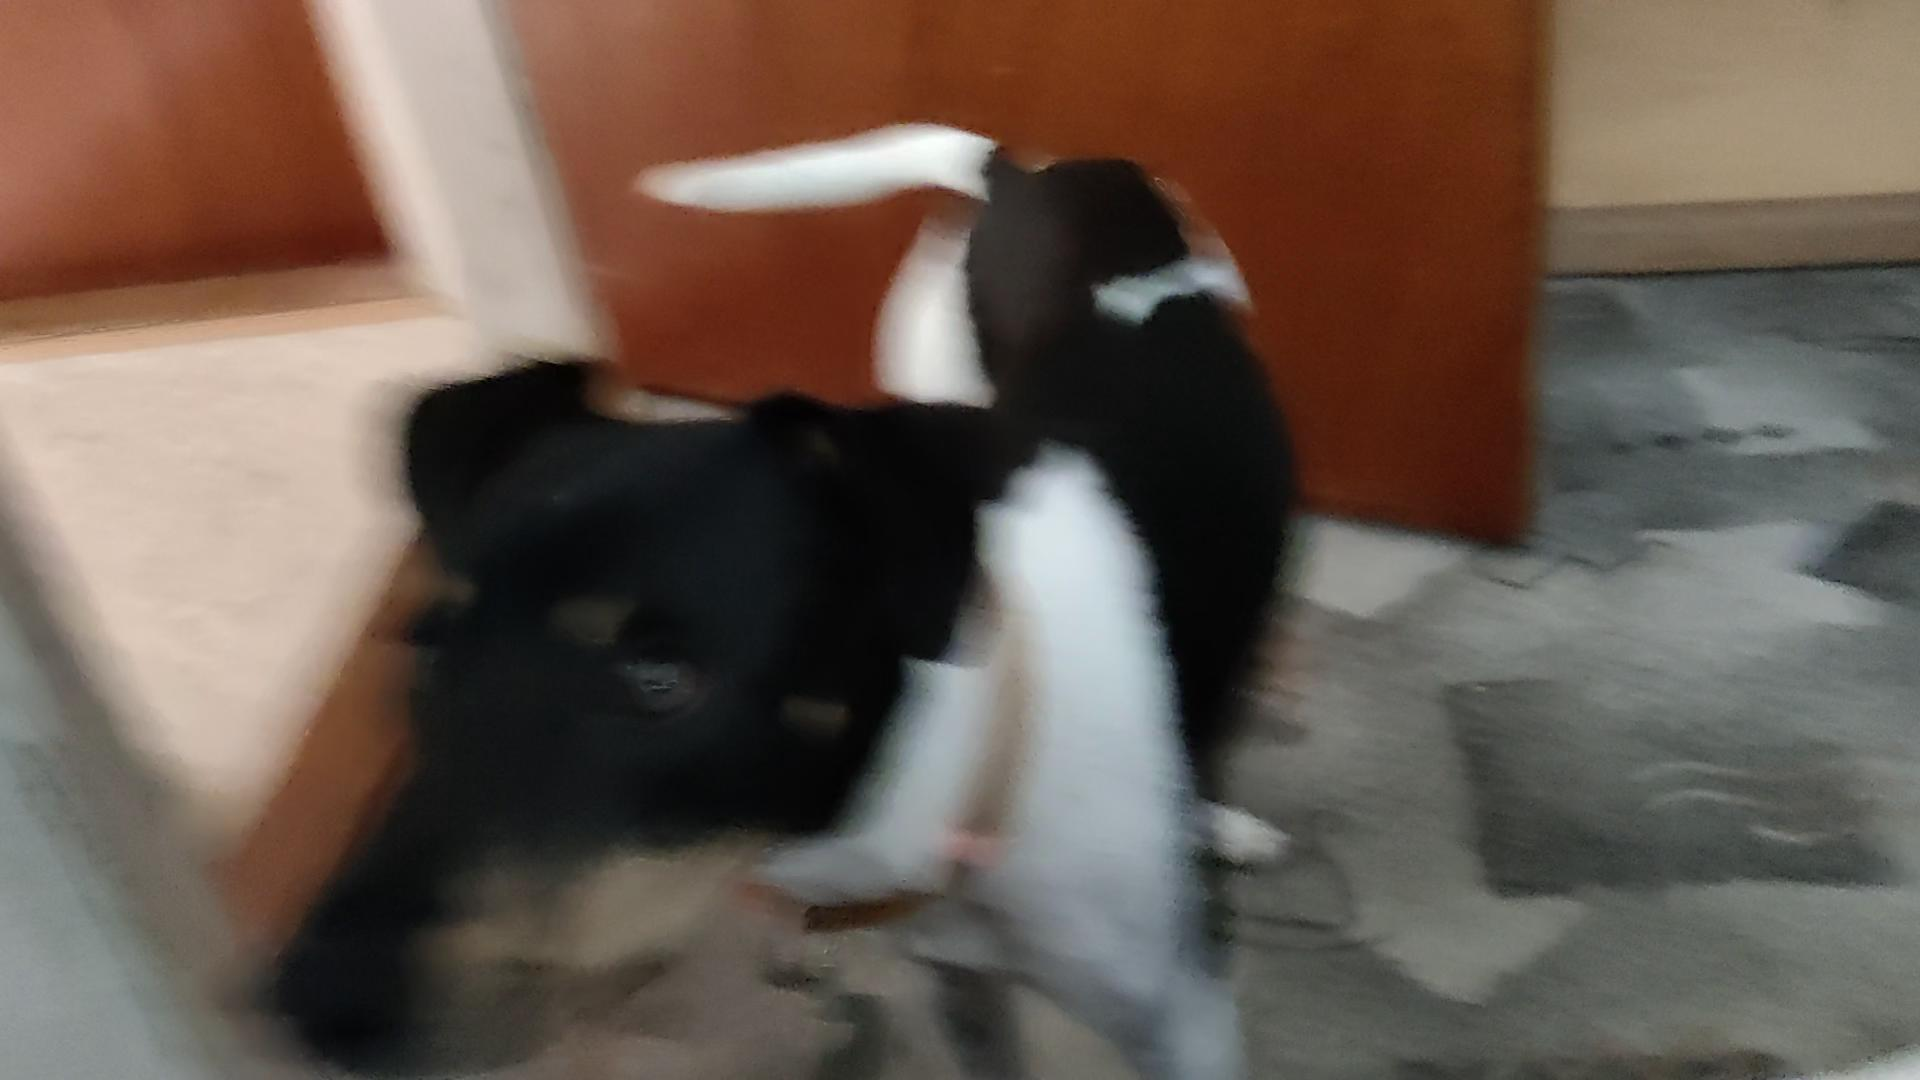Dog: (232, 98, 1342, 1079)
